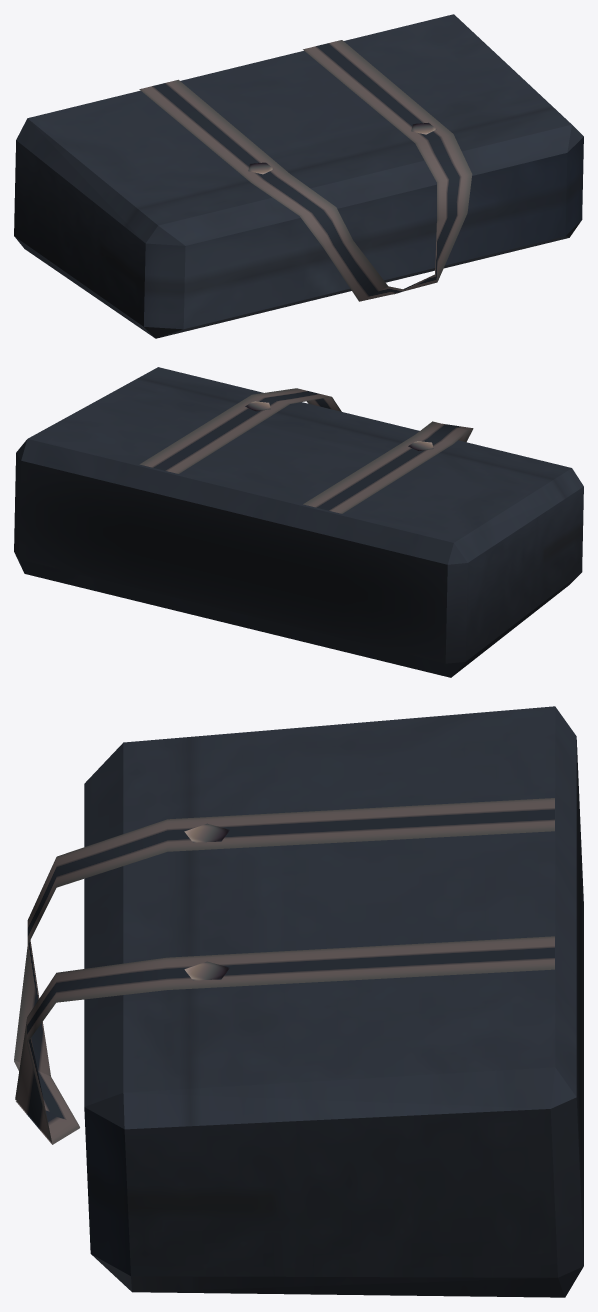
The model's file is bag_typeA3_eve.FBX.
3 renders of one model, top to bottom at view 1: azimuth 30°, elevation 25°; view 2: azimuth 150°, elevation 25°; view 3: azimuth 270°, elevation 25°, orthographic. The views are drawn at different scales.
Visible parts, largest first — view 1: crm_bagA002_eve; view 2: crm_bagA002_eve; view 3: crm_bagA002_eve.
Boxes of the visible parts, <box> form: crm_bagA002_eve: <box>14,14,583,338</box>; crm_bagA002_eve: <box>14,367,583,677</box>; crm_bagA002_eve: <box>14,706,583,1297</box>.
Bounding box in the file's own units: 43.33 × 12.33 × 27.3.
